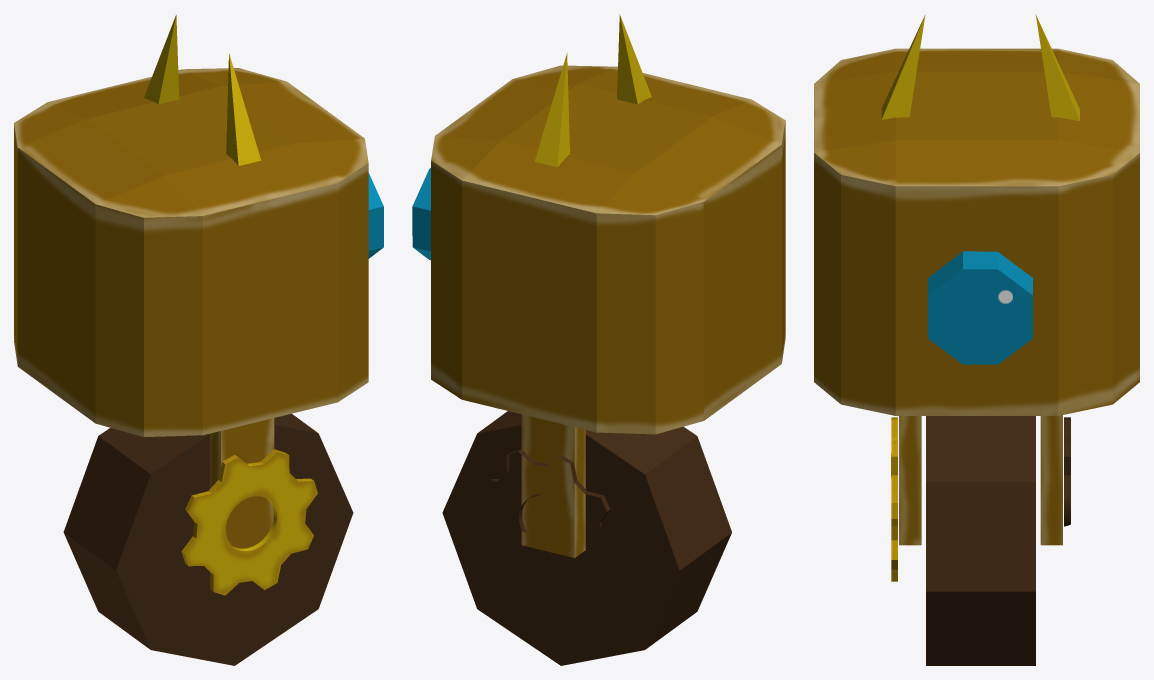
File: Gunner.obj
3 renders of one model, left to right at view 1: azimuth 30°, elevation 25°; view 2: azimuth 150°, elevation 25°; view 3: azimuth 270°, elevation 25°, orthographic. The views are drawn at different scales.
Visible parts, largest first — view 1: 立方体.004; view 2: 立方体.004; view 3: 立方体.004.
Part boxes in pixels (x1,y1,x2,y2): 立方体.004: (14, 15, 383, 665); 立方体.004: (412, 14, 785, 665); 立方体.004: (814, 14, 1139, 665).
Bounding box in the file's own units: 0.9106 × 1.76 × 0.8074.
3 materials, 3 textured.
